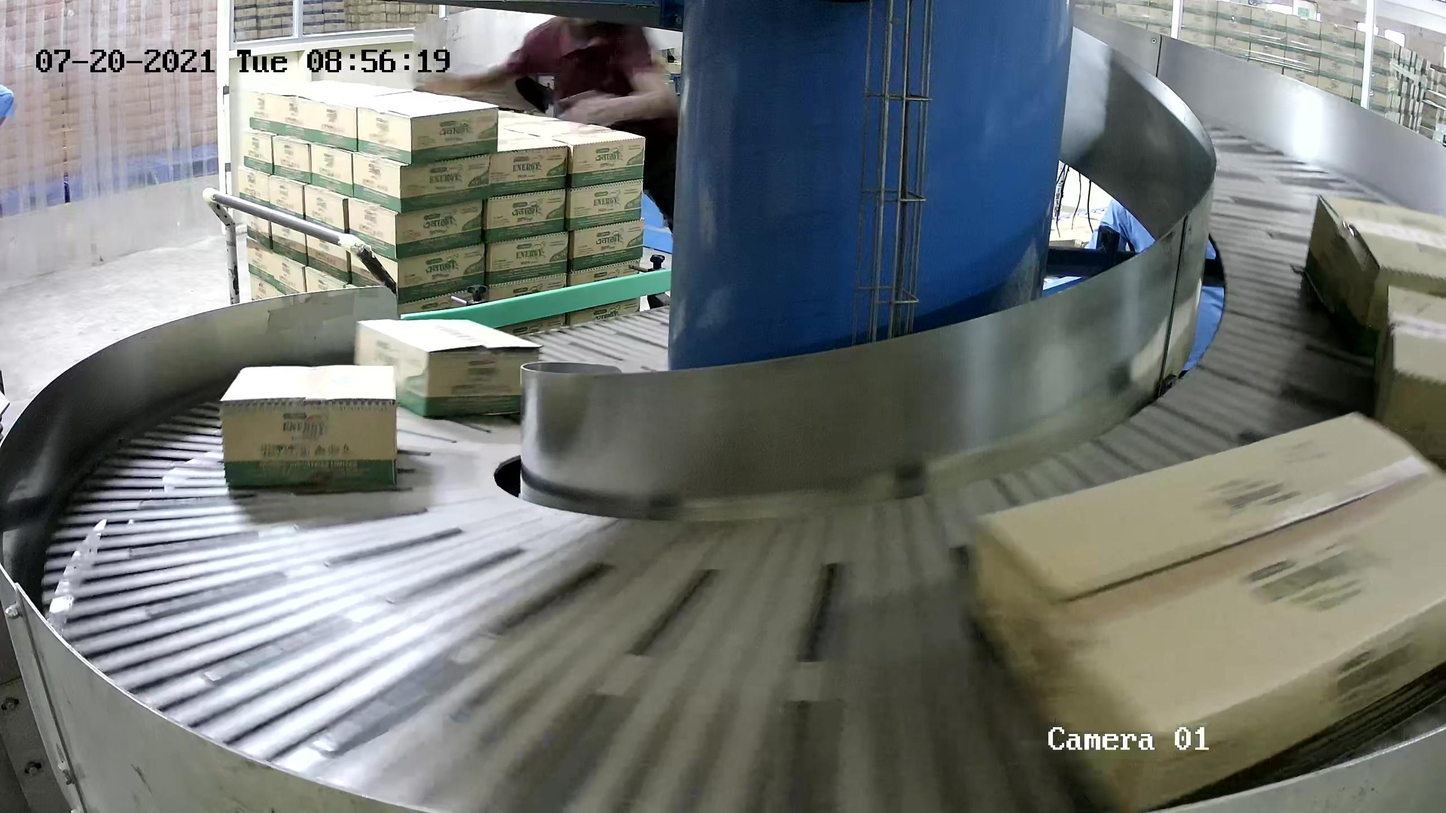Box: (961, 403, 1446, 813), (1302, 190, 1446, 363), (217, 363, 399, 492), (352, 317, 545, 420)
